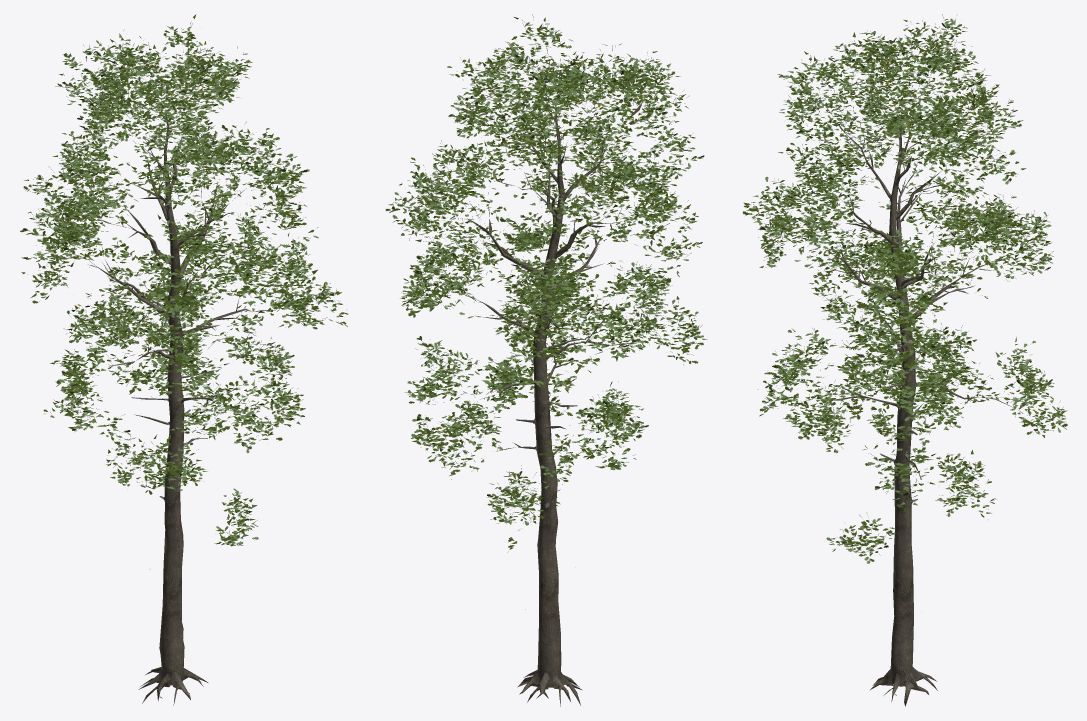
File: forest-oak-flow-lod-512.glb
3 renders of one model, left to right at view 1: azimuth 30°, elevation 25°; view 2: azimuth 150°, elevation 25°; view 3: azimuth 270°, elevation 25°, orthographic.
Parts seen in each view (by area): view 1: ForestPlantCatalog_quercus-robur-forest-ld-s41; view 2: ForestPlantCatalog_quercus-robur-forest-ld-s41; view 3: ForestPlantCatalog_quercus-robur-forest-ld-s41.
Part boxes in pixels (<box>): ForestPlantCatalog_quercus-robur-forest-ld-s41: <box>20,14,348,705</box>; ForestPlantCatalog_quercus-robur-forest-ld-s41: <box>385,14,707,706</box>; ForestPlantCatalog_quercus-robur-forest-ld-s41: <box>742,14,1067,706</box>.
Bounding box in the file's own units: 7.31 × 15.93 × 7.2.
14 materials, 14 textured.
